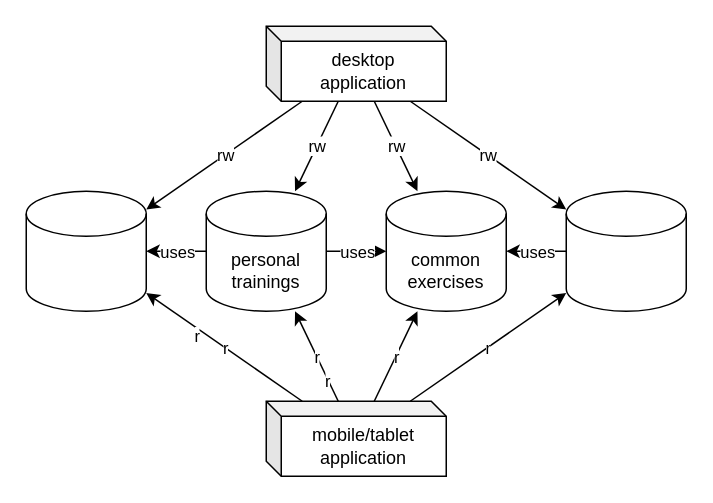
This 713x503 diagram has some shape labels left out. Here are the shapes that lost their labels. From the top down, the centre of each, then its label:
At pixel 85 250: "personal exercises".
At pixel 625 250: "common trainings".
